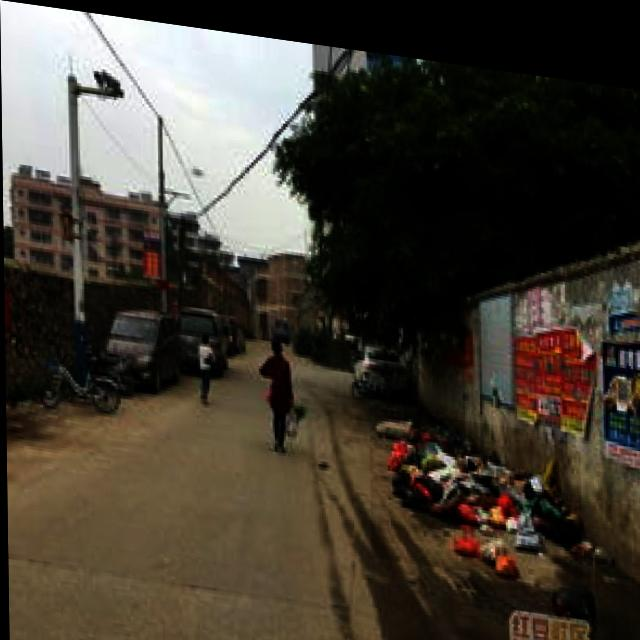garbage: (368, 397, 581, 571)
